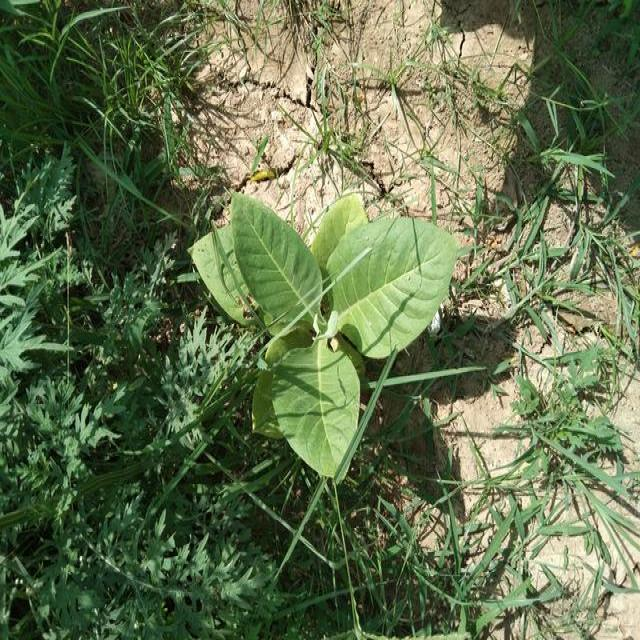crop: (190, 198, 446, 463)
